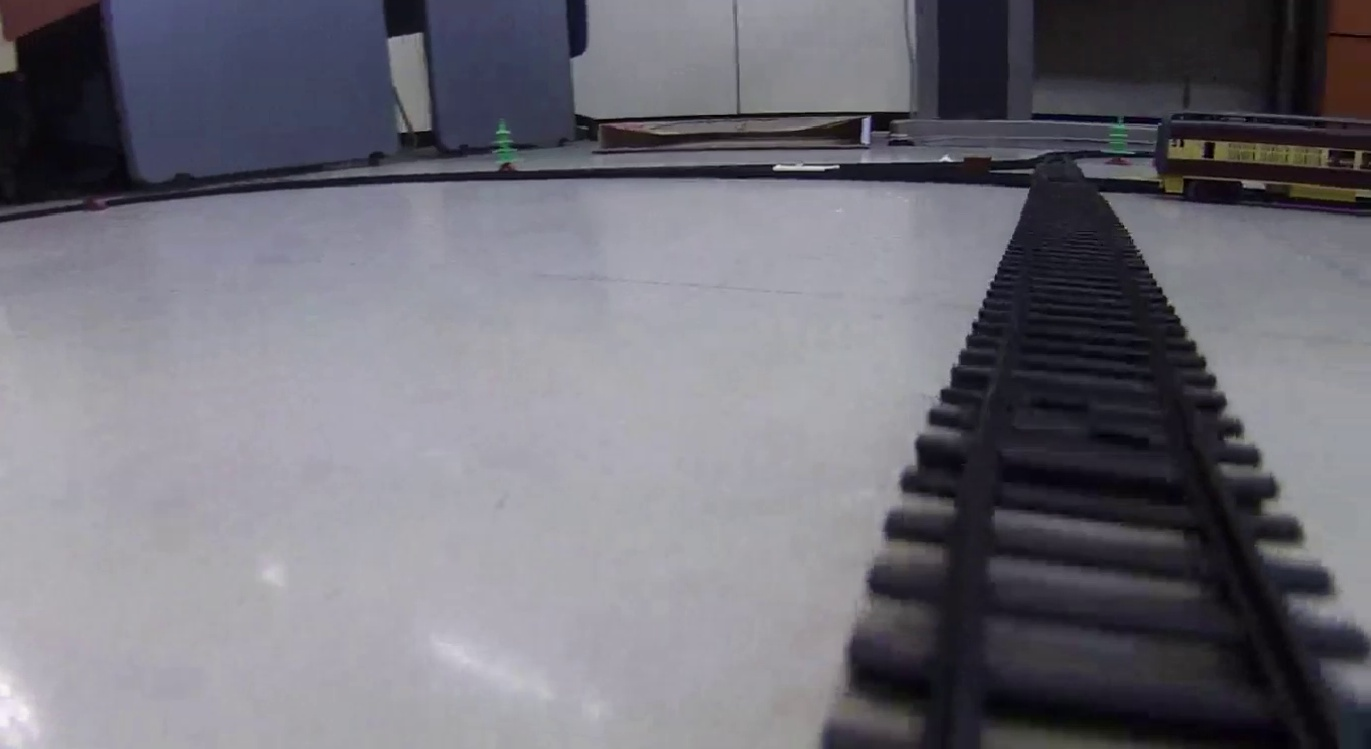tree: (489, 115, 522, 173)
